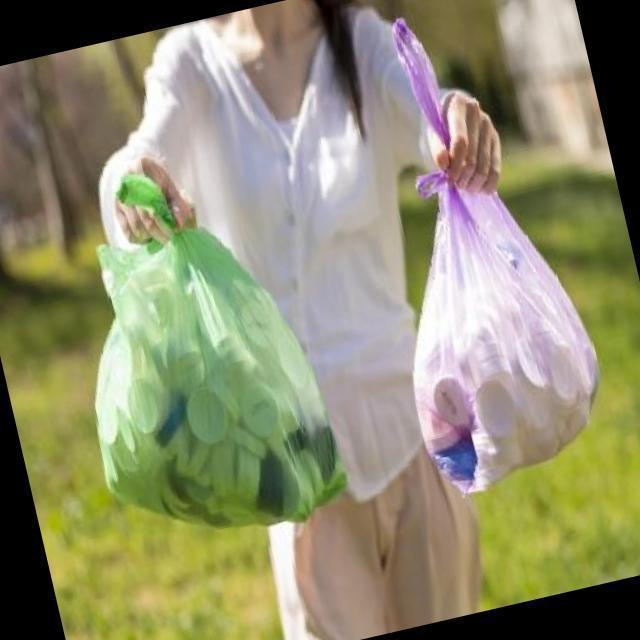Garbage_Bag: (327, 0, 626, 510), (39, 140, 358, 568)
